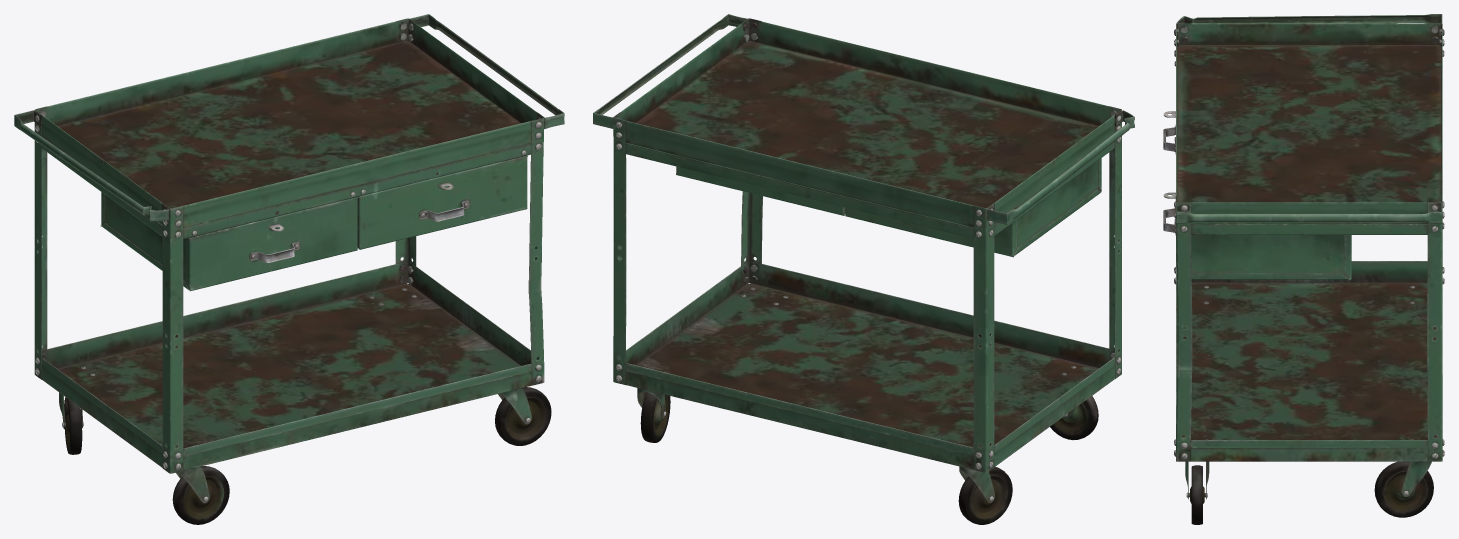
The model's file is tool_cart.glb.
The picture shows the model from 3 angles, left to right: view 1: azimuth 30°, elevation 25°; view 2: azimuth 150°, elevation 25°; view 3: azimuth 270°, elevation 25°; orthographic projection. The views are drawn at different scales.
Visible parts, largest first — view 1: tool_cart; view 2: tool_cart; view 3: tool_cart.
Part boxes in pixels (x1,y1,x2,y2): tool_cart: (14,14,564,524); tool_cart: (593,14,1134,524); tool_cart: (1163,14,1444,524).
Bounding box in the file's own units: 1.27 × 0.9647 × 0.7537.
1 material, 1 textured.
